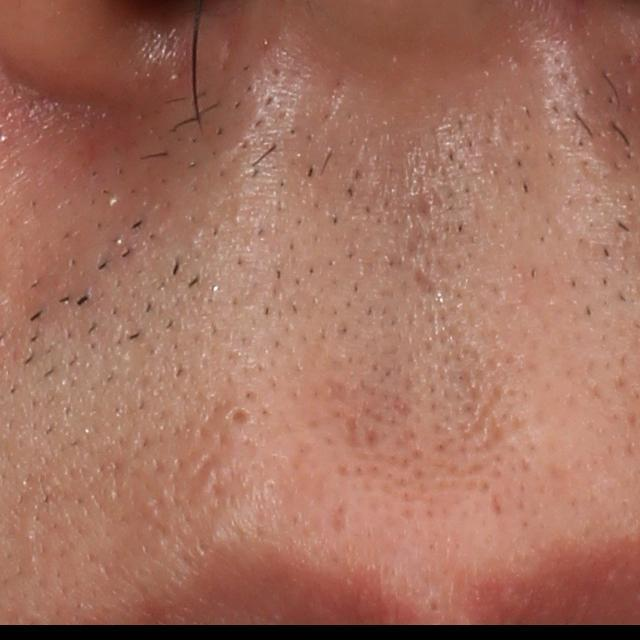atrophic_scar: (407, 264, 442, 298), (342, 408, 362, 456), (413, 195, 437, 233), (329, 501, 351, 533)
comedo: (221, 404, 256, 432)
